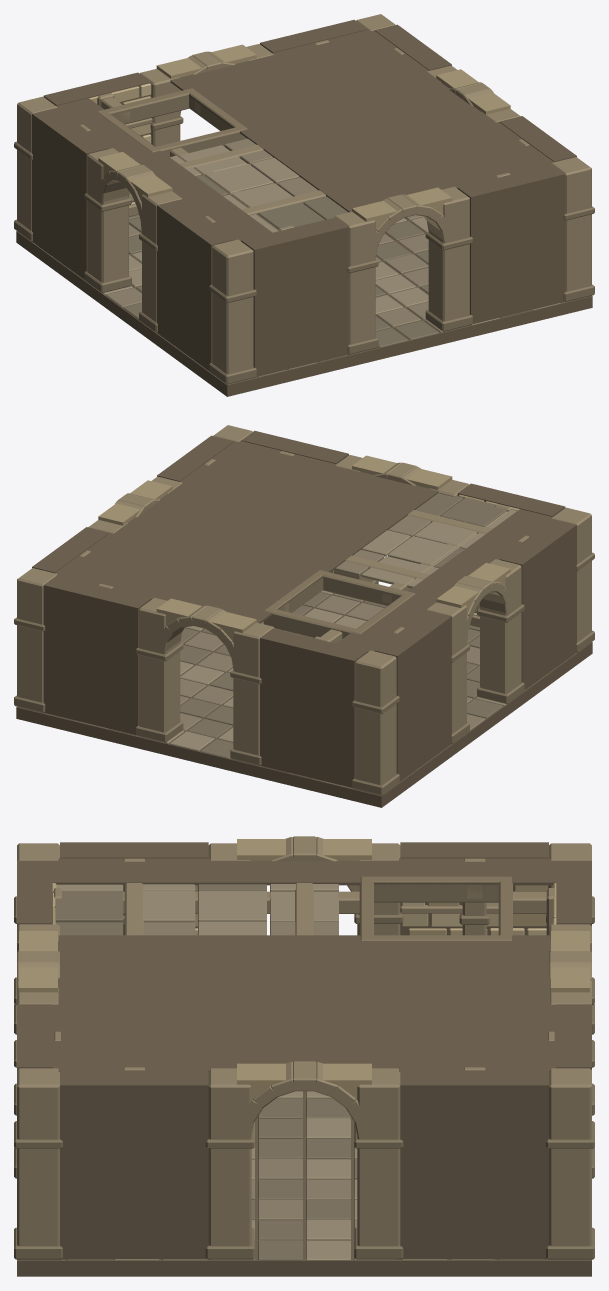
The model's file is cripta-stanza-spawn.glb.
The picture shows the model from 3 angles, top to bottom: view 1: azimuth 30°, elevation 25°; view 2: azimuth 150°, elevation 25°; view 3: azimuth 270°, elevation 25°; orthographic projection. The views are drawn at different scales.
Parts seen in each view (by area): view 1: cripta-stanza-spawn2; view 2: cripta-stanza-spawn2; view 3: cripta-stanza-spawn2.
Boxes of the visible parts, x1,y1,x2,y2 form: cripta-stanza-spawn2: (14, 14, 594, 396); cripta-stanza-spawn2: (14, 425, 594, 807); cripta-stanza-spawn2: (14, 836, 594, 1276).
Size of the model in its own units: 12.12 by 4.55 by 12.12.
